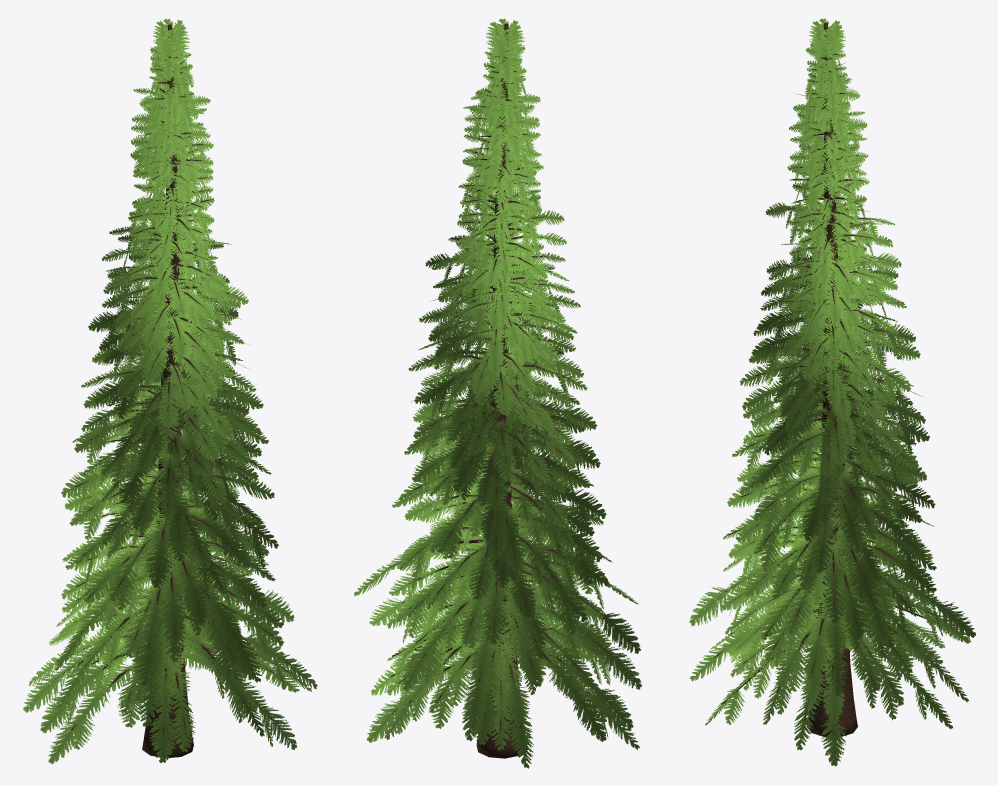
File: baldcypress_v01_LOD1.fbx
The picture shows the model from 3 angles, left to right: view 1: azimuth 30°, elevation 25°; view 2: azimuth 150°, elevation 25°; view 3: azimuth 270°, elevation 25°; orthographic projection. The views are drawn at different scales.
Parts seen in each view (by area): view 1: baldcypress_v01_LOD1; view 2: baldcypress_v01_LOD1; view 3: baldcypress_v01_LOD1.
Part boxes in pixels (x1,y1,x2,y2): baldcypress_v01_LOD1: (23,18,317,764); baldcypress_v01_LOD1: (354,18,641,768); baldcypress_v01_LOD1: (689,18,975,766).
Size of the model in its own units: 870 by 862 by 2220.
2 materials, 2 textured.
